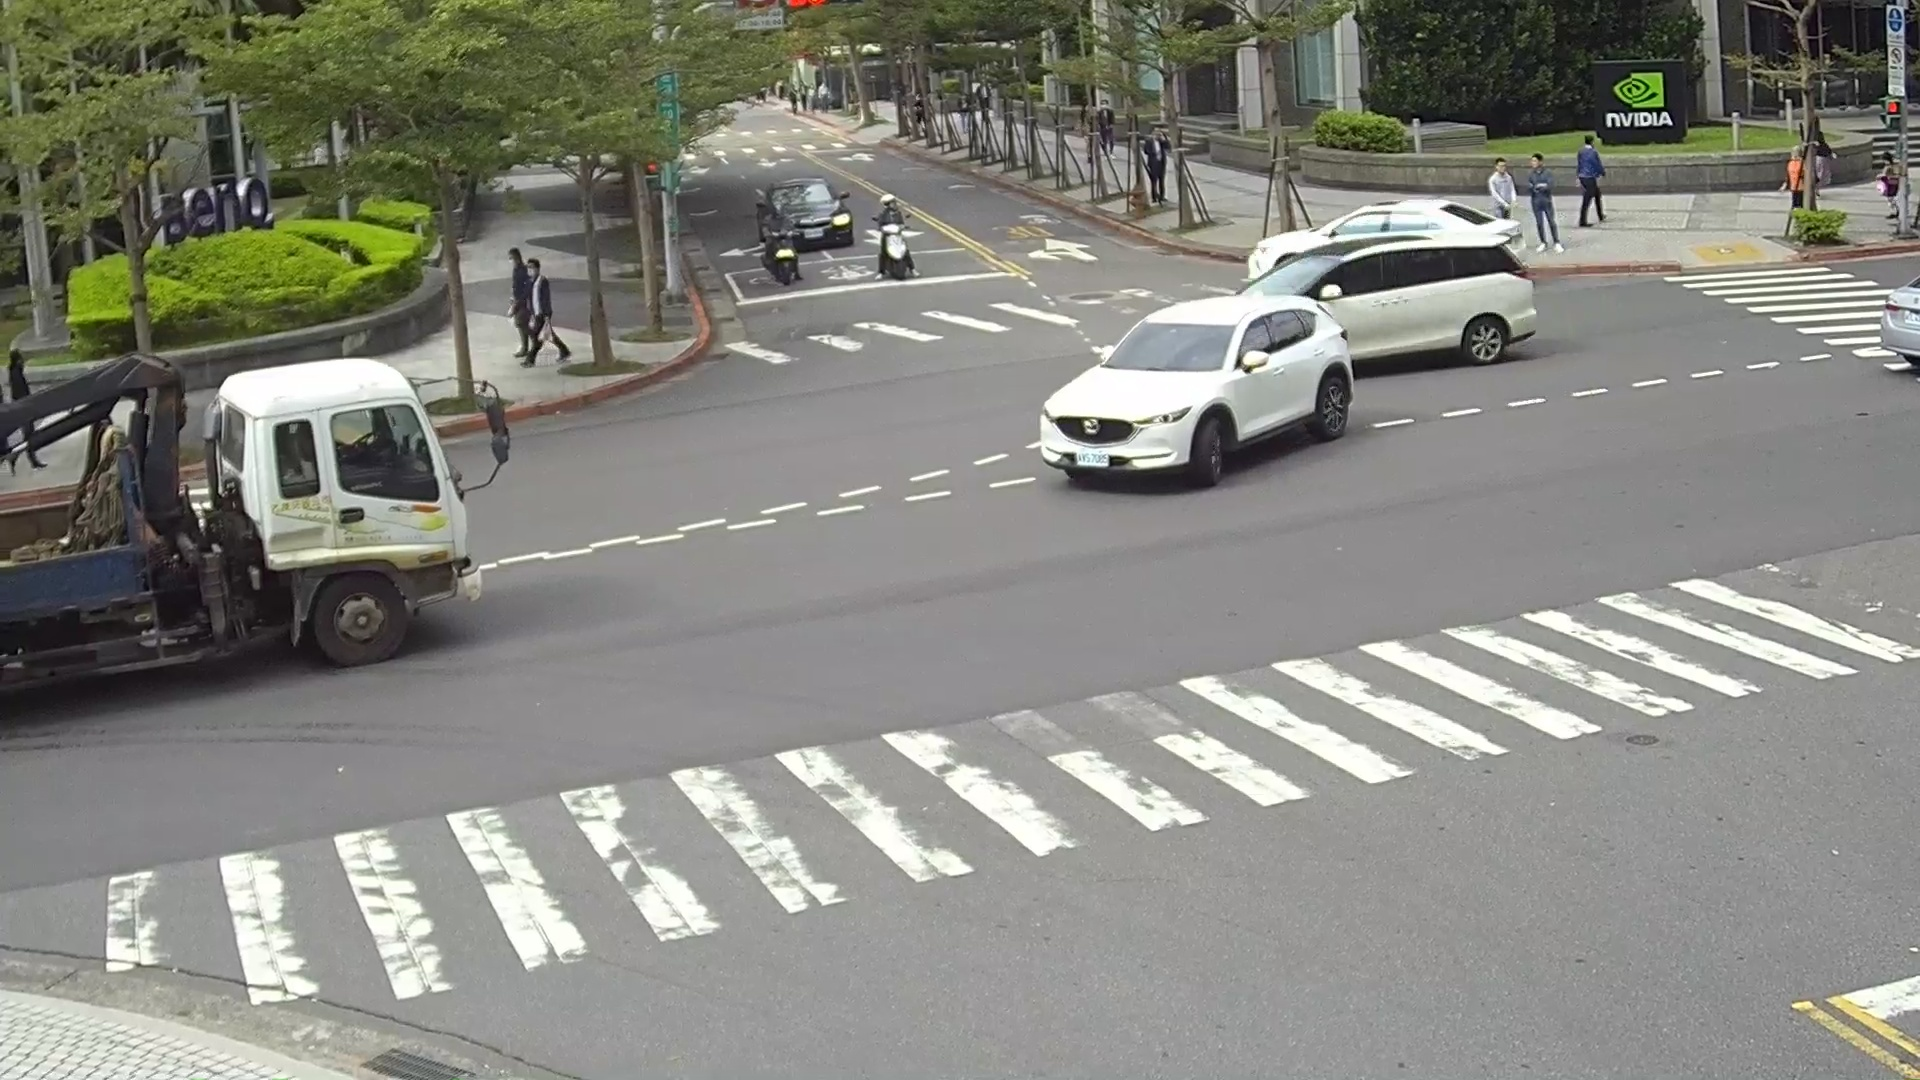bike: (874, 222, 915, 280), (761, 230, 802, 285)
pedestrian: (511, 254, 558, 362), (1522, 150, 1563, 252), (871, 193, 912, 273), (505, 252, 536, 357), (1575, 131, 1604, 225), (763, 200, 795, 268), (1487, 156, 1518, 222), (1878, 158, 1904, 229), (3, 348, 31, 401), (1143, 133, 1165, 200), (1092, 97, 1120, 148), (1784, 147, 1806, 207)
vehicle: (1, 351, 489, 749), (1045, 291, 1351, 492), (1241, 222, 1537, 374), (1241, 197, 1528, 282), (754, 177, 852, 255), (1882, 227, 1920, 378)
